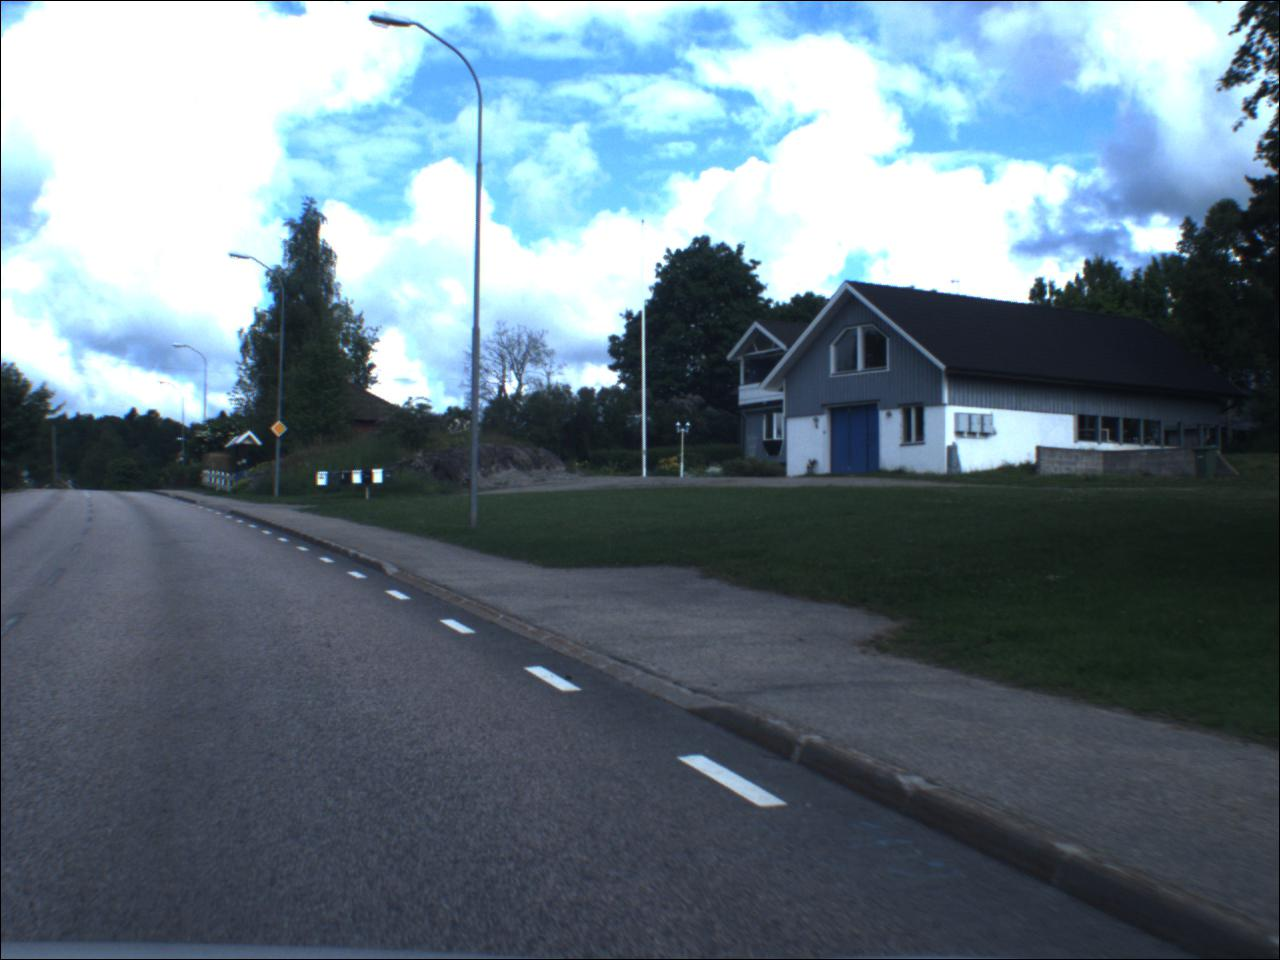PRIORITY_ROAD: (272, 419, 292, 439)
